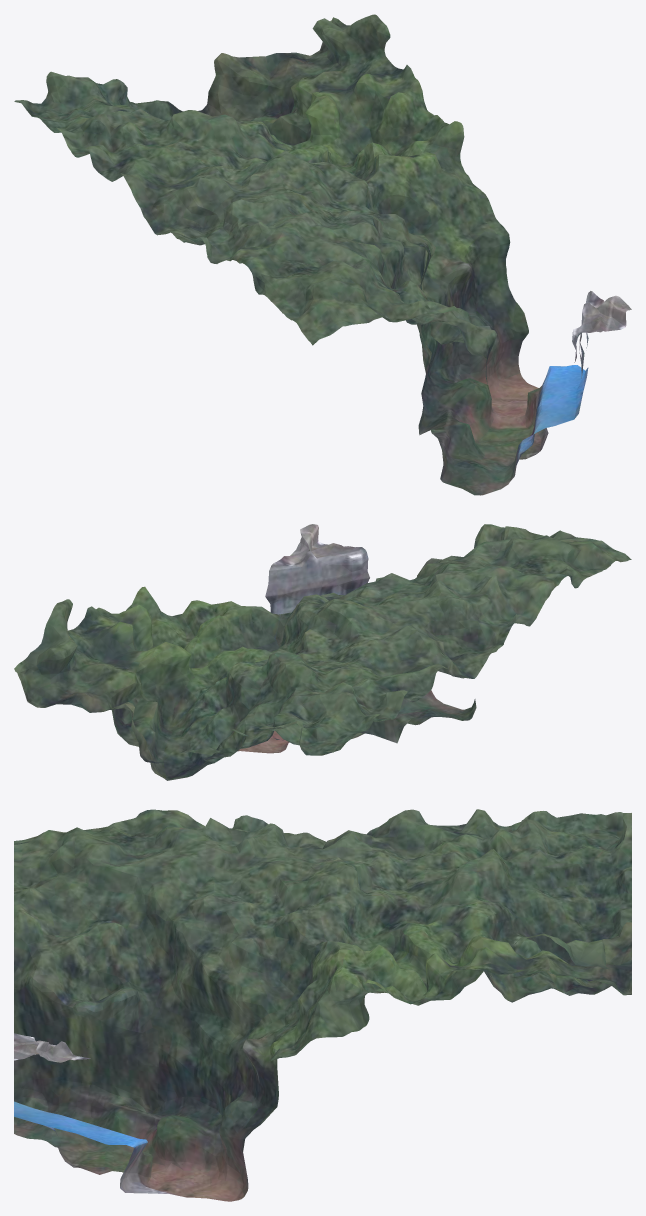
The model's file is Tile_+006_+006_L21_0000100.glb.
3 views of the same model, one above another, from view 1: azimuth 30°, elevation 25°; view 2: azimuth 150°, elevation 25°; view 3: azimuth 270°, elevation 25° (orthographic). The views are drawn at different scales.
Visible parts, largest first — view 1: rtc; view 2: rtc; view 3: rtc.
Part boxes in pixels (x1,y1,x2,y2): rtc: (14, 14, 631, 495); rtc: (14, 524, 631, 780); rtc: (14, 809, 631, 1201).
Bounding box in the file's own units: 15.5 × 12 × 25.13.
1 material, 1 textured.
